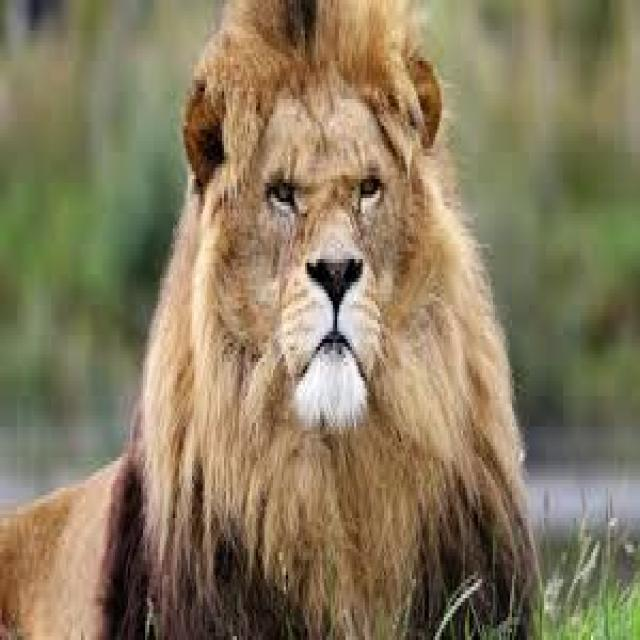Lion: (0, 0, 535, 636)
